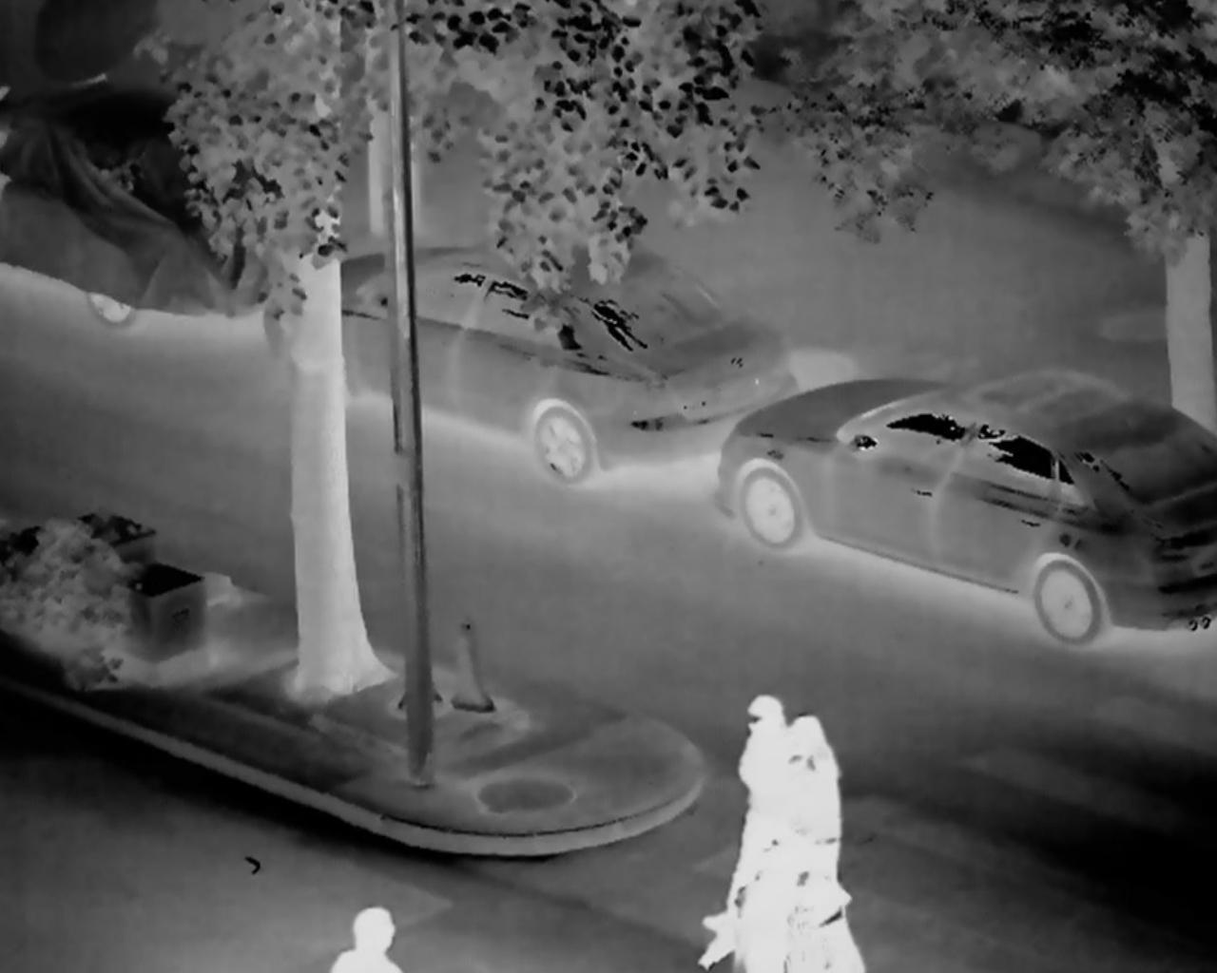person: (722, 689, 787, 973), (774, 722, 848, 971), (782, 857, 867, 973), (690, 863, 779, 973), (323, 899, 412, 973)
